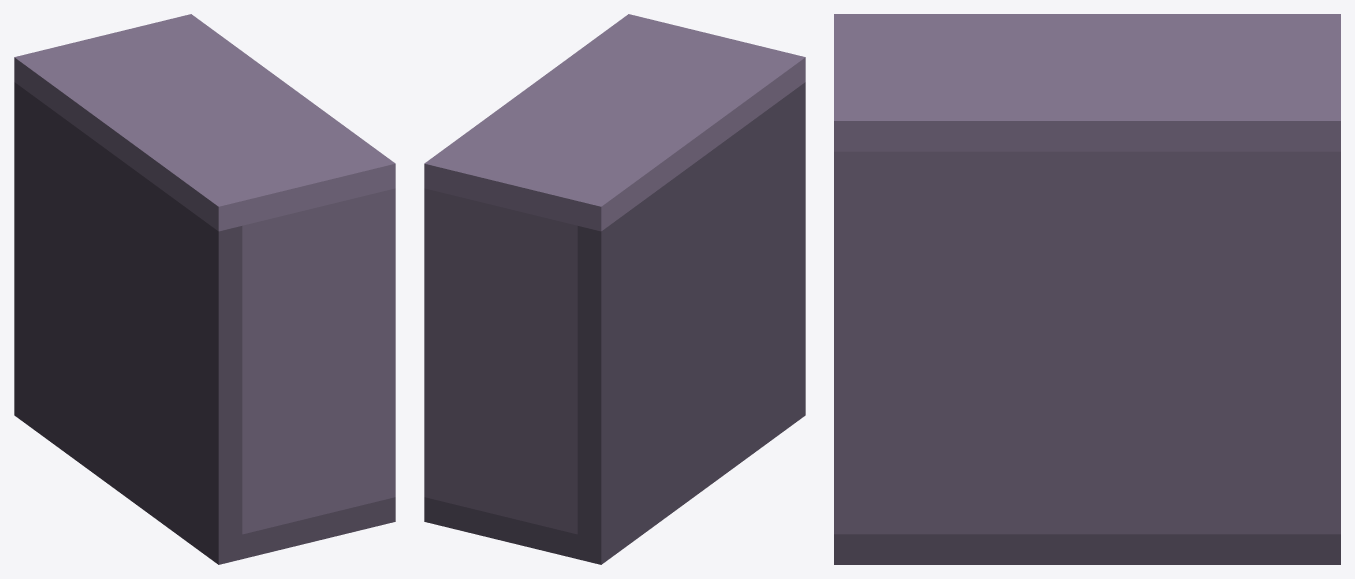
Rendered from estanteria_alquimia_oscura_01.glb.
3 views of the same model, side by side, from view 1: azimuth 30°, elevation 25°; view 2: azimuth 150°, elevation 25°; view 3: azimuth 270°, elevation 25° (orthographic). The views are drawn at different scales.
Visible parts, largest first — view 1: estanteria_alquimia_oscura; view 2: estanteria_alquimia_oscura; view 3: estanteria_alquimia_oscura.
Boxes of the visible parts, x1,y1,x2,y2 form: estanteria_alquimia_oscura: (14, 14, 395, 564); estanteria_alquimia_oscura: (424, 14, 805, 564); estanteria_alquimia_oscura: (834, 14, 1340, 564).
Size of the model in its own units: 1 by 1.93 by 2.
